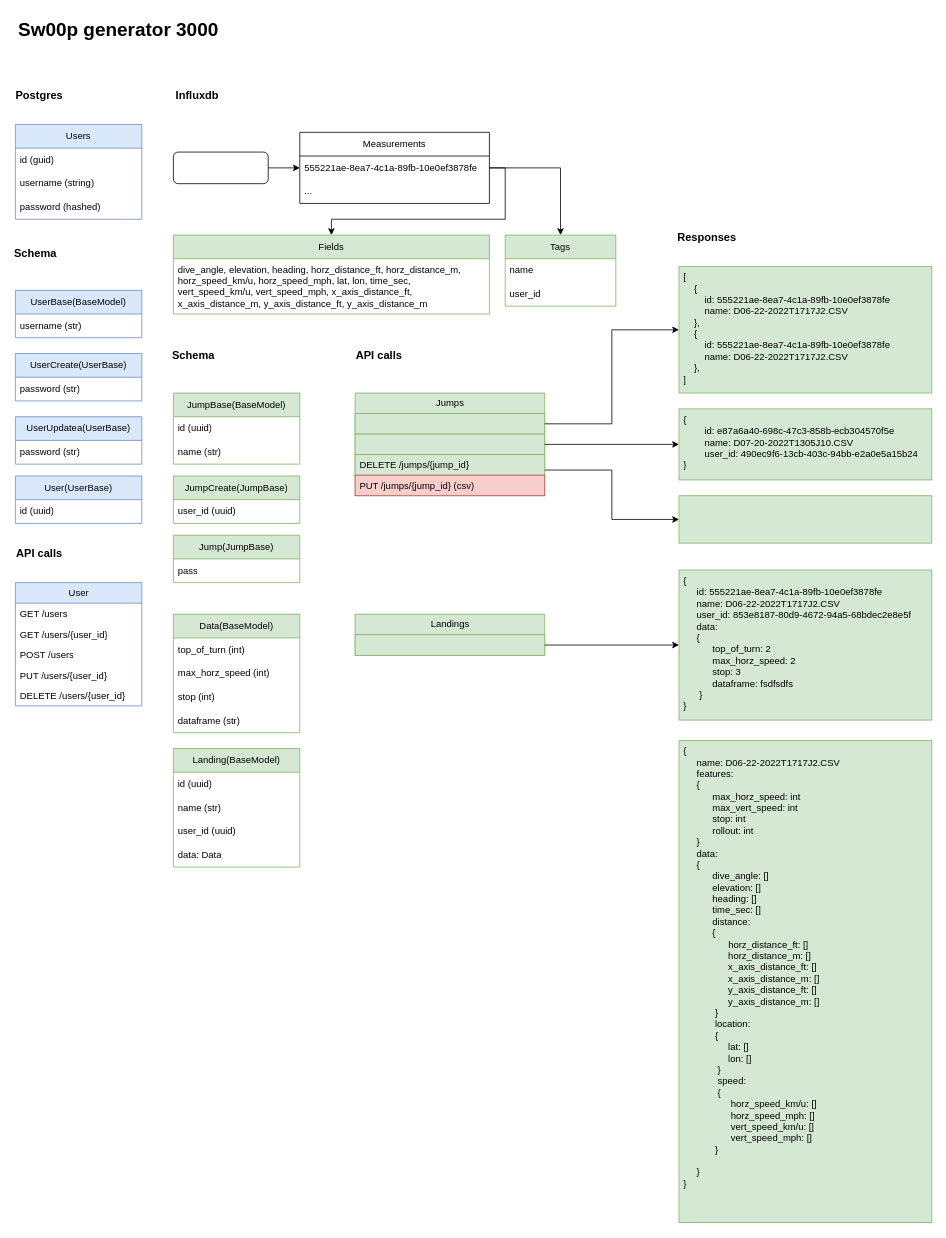
The diagram is 946 pixels wide and 1238 high, and some of its shapes have lost their labels. Each missing label, with the centre of its shape:
Bucket (flysight): (x=220, y=167)
GET /jumps/{user_id}: (x=449, y=423)
GET /landings/{jump_id}: (x=449, y=644)
POST /jumps (user_id, csv): (x=449, y=444)
{ "message": "Jump deleted successfully" }: (x=805, y=519)
